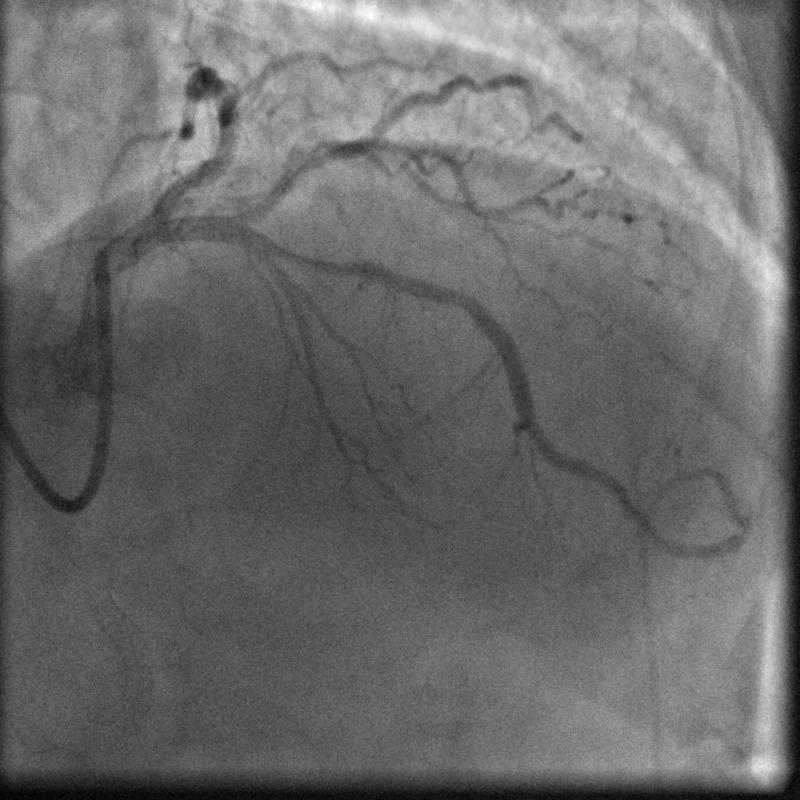Stenosis: (278, 235, 340, 277)
